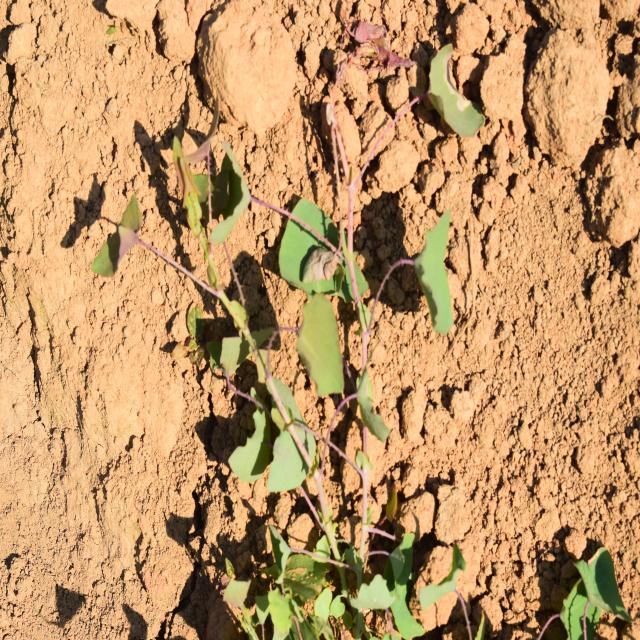Asiatic_Smartweed: (267, 89, 462, 304), (88, 125, 278, 343), (232, 280, 396, 500)
